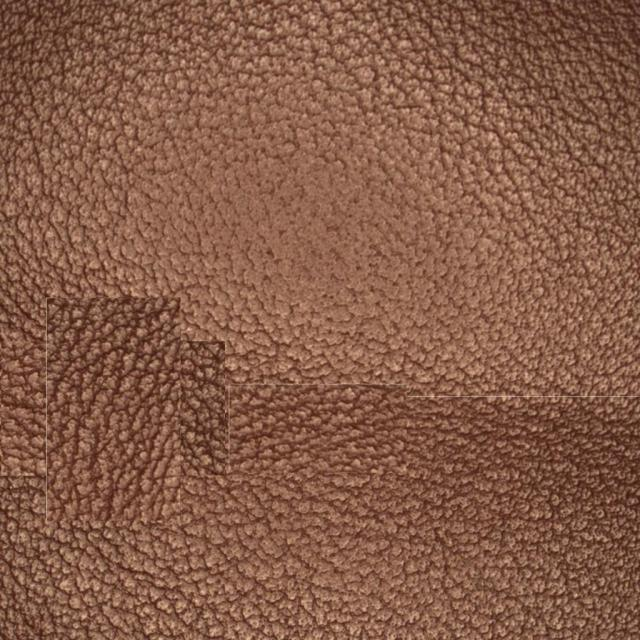Healed Injury: (39, 285, 238, 523), (385, 371, 600, 508)
